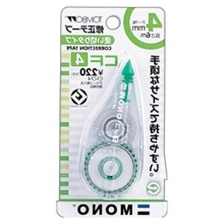book: (54, 4, 169, 221)
correction_fluid: (78, 53, 146, 200)
